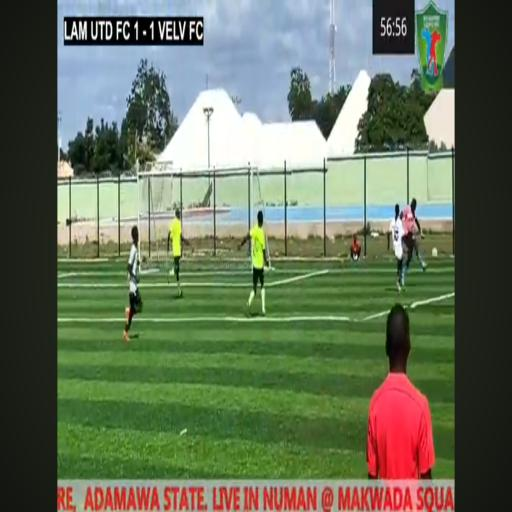ball: (432, 244, 440, 258)
keeper2: (401, 186, 428, 282)
referee: (364, 284, 438, 484)
team1: (122, 228, 144, 342), (384, 194, 404, 284)
team2: (240, 205, 270, 321), (167, 199, 189, 302)
